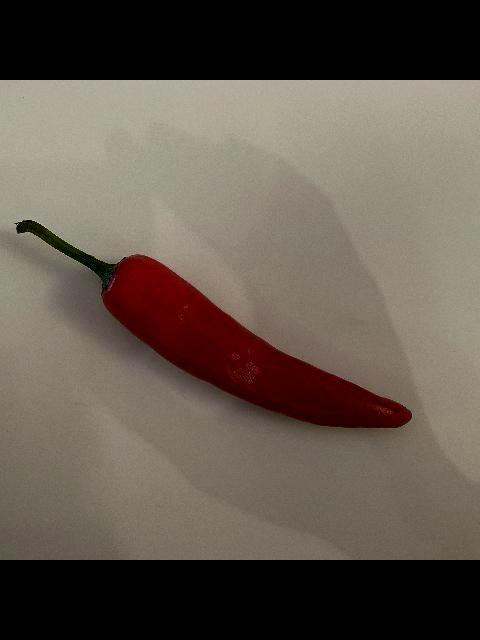chilli: (13, 218, 413, 430)
